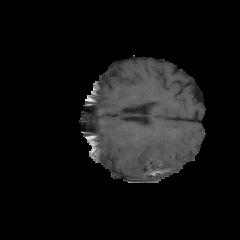glioma: (122, 126, 199, 178)
